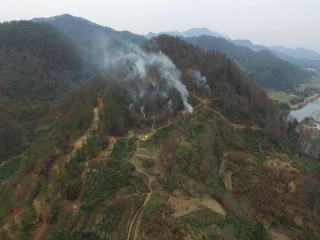smoke: (109, 45, 212, 117)
